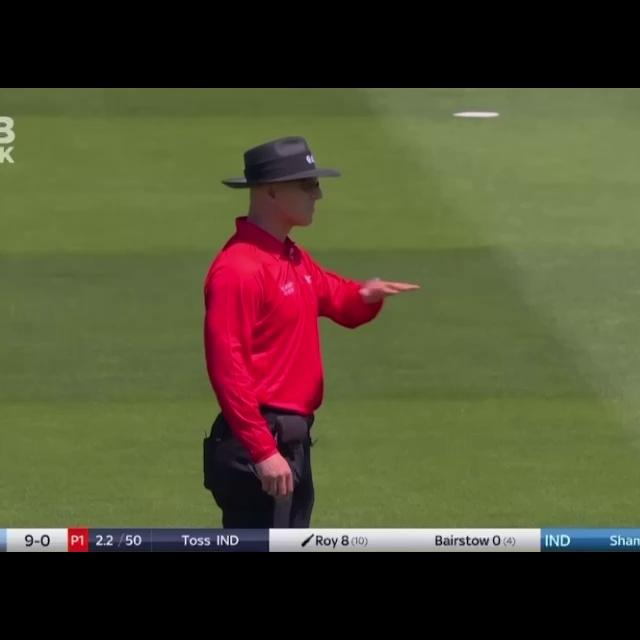umpire: (180, 124, 420, 539)
